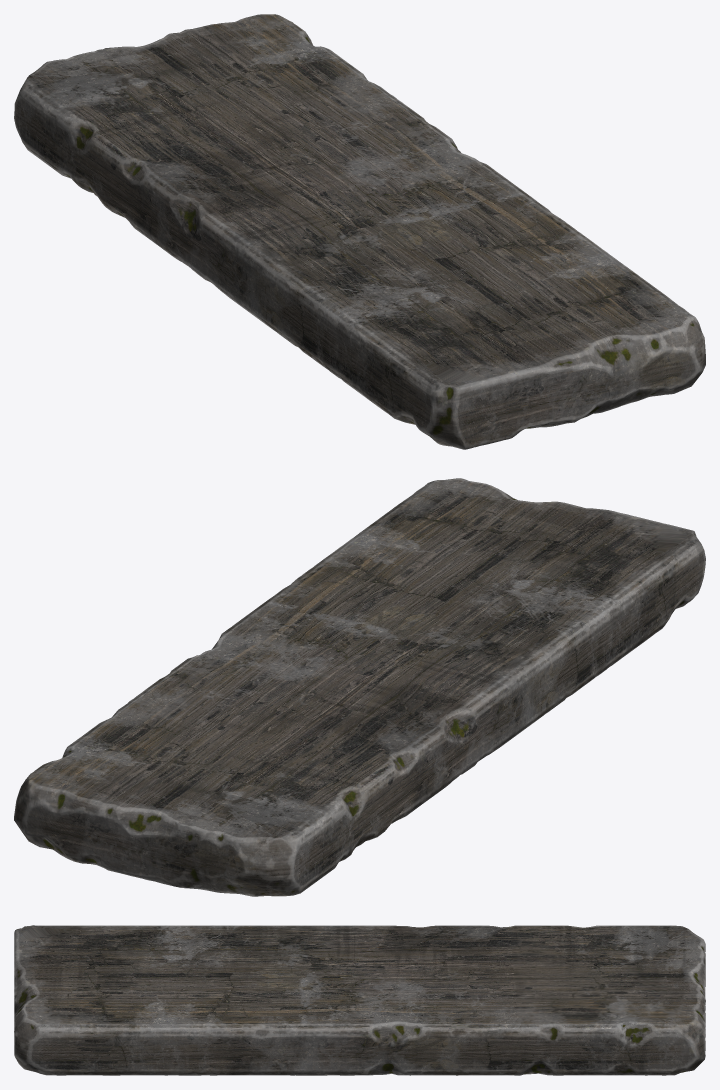
File: SM_StonePlate_H.fbx
The picture shows the model from 3 angles, top to bottom: view 1: azimuth 30°, elevation 25°; view 2: azimuth 150°, elevation 25°; view 3: azimuth 270°, elevation 25°; orthographic projection. The views are drawn at different scales.
Parts seen in each view (by area): view 1: SM_StonePlate_H_LOD0; view 2: SM_StonePlate_H_LOD0; view 3: SM_StonePlate_H_LOD0.
Boxes of the visible parts, x1=… form: SM_StonePlate_H_LOD0: x1=14, y1=14, x2=705, y2=449; SM_StonePlate_H_LOD0: x1=14, y1=478, x2=705, y2=896; SM_StonePlate_H_LOD0: x1=14, y1=925, x2=705, y2=1075.
Bounding box in the file's own units: 165 × 456 × 37.22.
